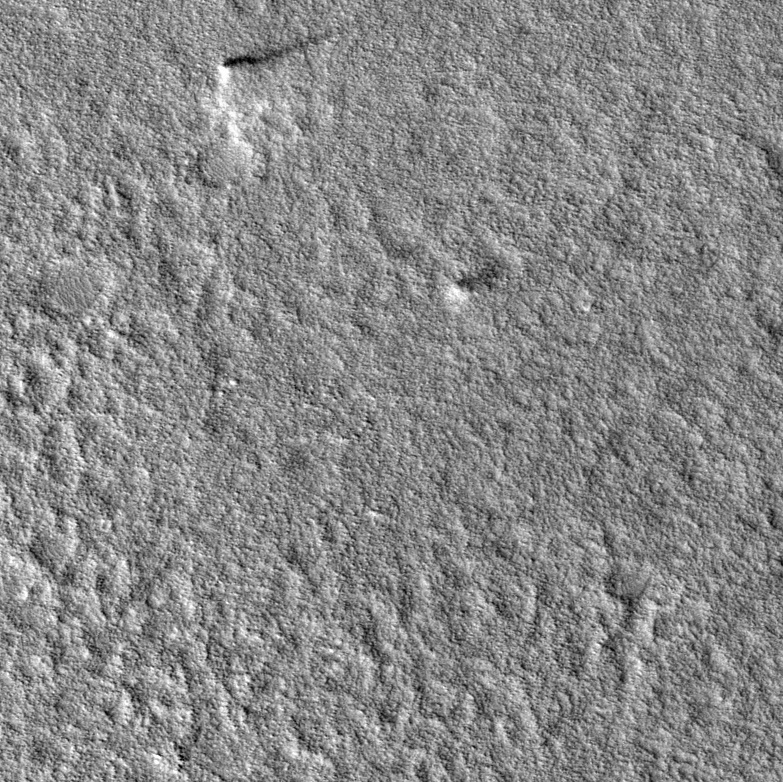dust_devil: (213, 31, 333, 86), (443, 258, 507, 307)
